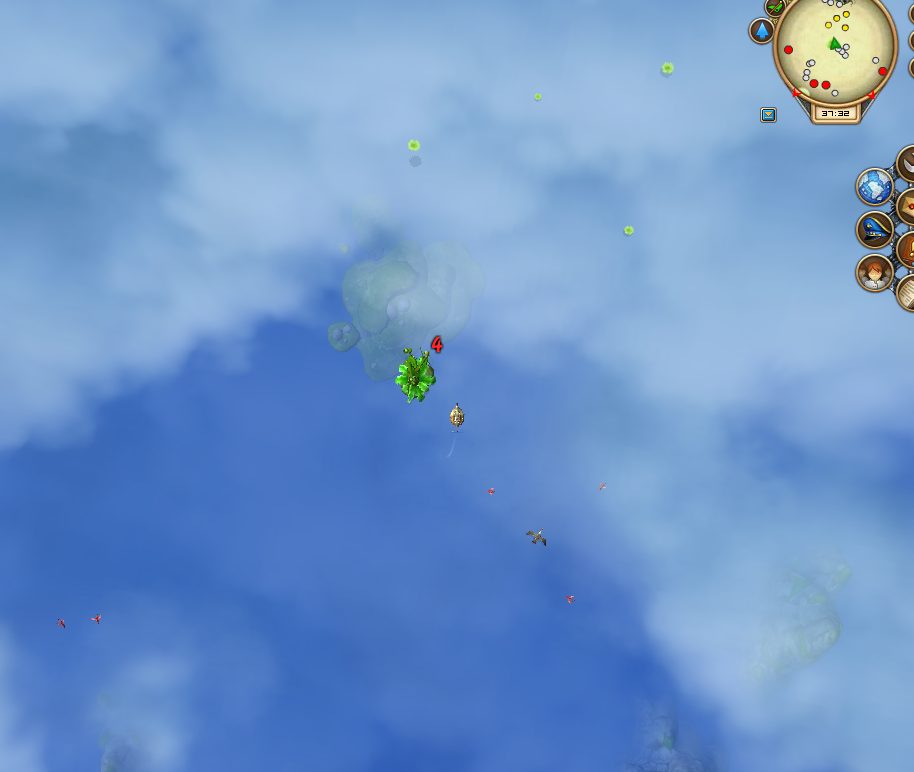dandelion-empty: (388, 340, 440, 404)
fluff: (403, 136, 424, 155), (657, 62, 675, 77), (620, 223, 636, 237), (529, 90, 544, 104)
